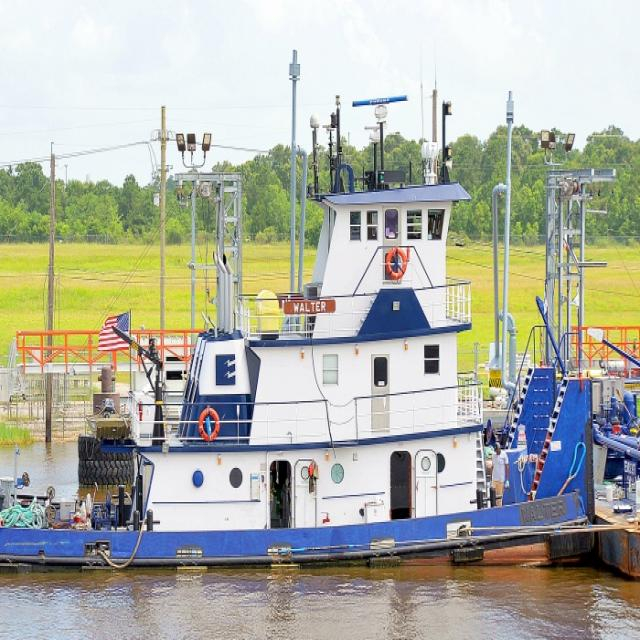tugboat: (1, 91, 619, 600)
